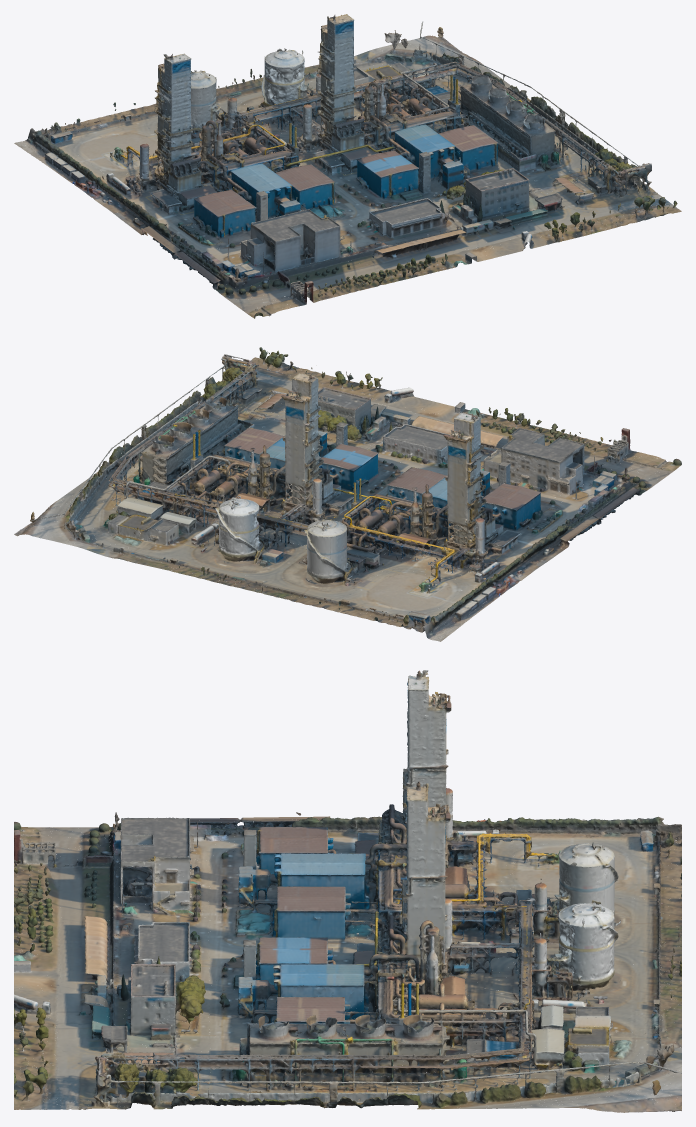
File: factory2.glb
The picture shows the model from 3 angles, top to bottom: view 1: azimuth 30°, elevation 25°; view 2: azimuth 150°, elevation 25°; view 3: azimuth 270°, elevation 25°; orthographic projection. The views are drawn at different scales.
Parts seen in each view (by area): view 1: Object_5, Object_14, Object_3, Object_11, Object_4, Object_12, Object_13, Object_10, Object_6, Object_8, Object_9, Object_7 (+1 smaller); view 2: Object_3, Object_14, Object_12, Object_6, Object_10, Object_5, Object_11, Object_7, Object_9, Object_13, Object_4, Object_8 (+1 smaller); view 3: Object_5, Object_3, Object_11, Object_14, Object_12, Object_13, Object_8, Object_6, Object_4, Object_10, Object_9, Object_7 (+1 smaller).
Part boxes in pixels (x1,y1,x2,y2): Object_5: (163,14,498,252); Object_14: (48,75,620,314); Object_3: (14,21,681,318); Object_11: (21,72,665,299); Object_4: (254,24,506,202); Object_12: (29,70,665,304); Object_13: (187,23,653,316); Object_10: (76,30,679,283); Object_6: (123,48,380,205); Object_8: (157,65,588,180); Object_9: (231,34,522,308); Object_7: (131,63,266,199); Object_3: (14,347,681,641); Object_14: (141,404,674,628); Object_12: (219,349,630,631); Object_6: (139,428,503,581); Object_10: (52,347,598,627); Object_5: (195,373,562,561); Object_11: (75,351,623,638); Object_7: (369,430,498,579); Object_9: (59,430,630,558); Object_13: (18,357,678,585); Object_4: (221,387,400,542); Object_8: (91,393,483,564); Object_5: (207,670,658,1022); Object_3: (14,812,681,1112); Object_11: (14,816,677,1108); Object_14: (14,812,681,1108); Object_12: (14,817,681,1100); Object_13: (19,823,681,1112); Object_8: (207,692,515,1100); Object_6: (370,699,660,1033); Object_4: (207,800,515,1052); Object_10: (15,788,681,1109); Object_9: (14,830,668,1093); Object_7: (373,693,514,908).
Size of the model in its own units: 389 by 126 by 380.
Materials: 1 (1 with a texture image).
